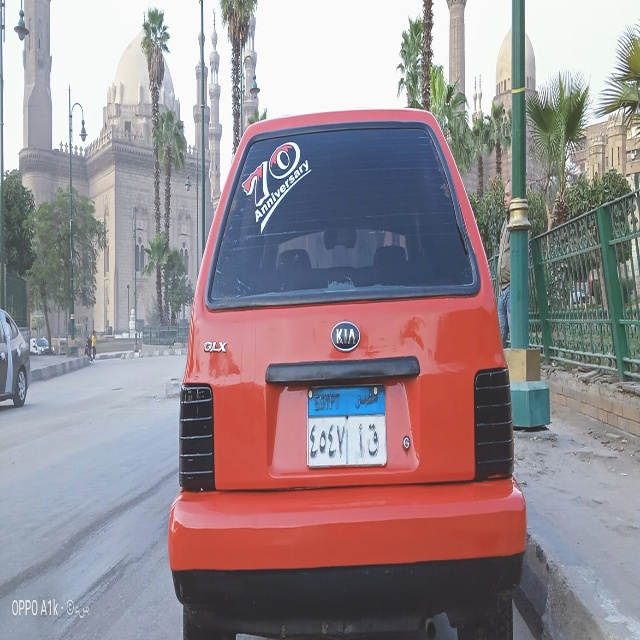License Plate: (305, 381, 388, 472)
